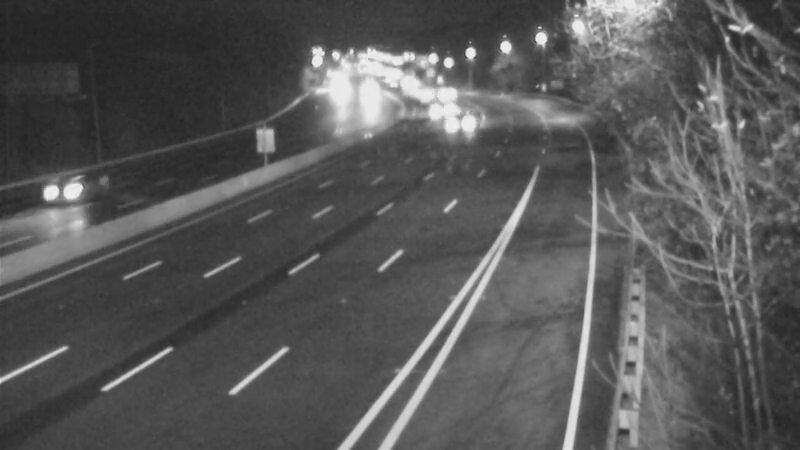vehicle: (15, 150, 95, 230), (422, 67, 472, 117), (400, 72, 450, 122), (414, 84, 464, 134), (437, 96, 487, 146)
